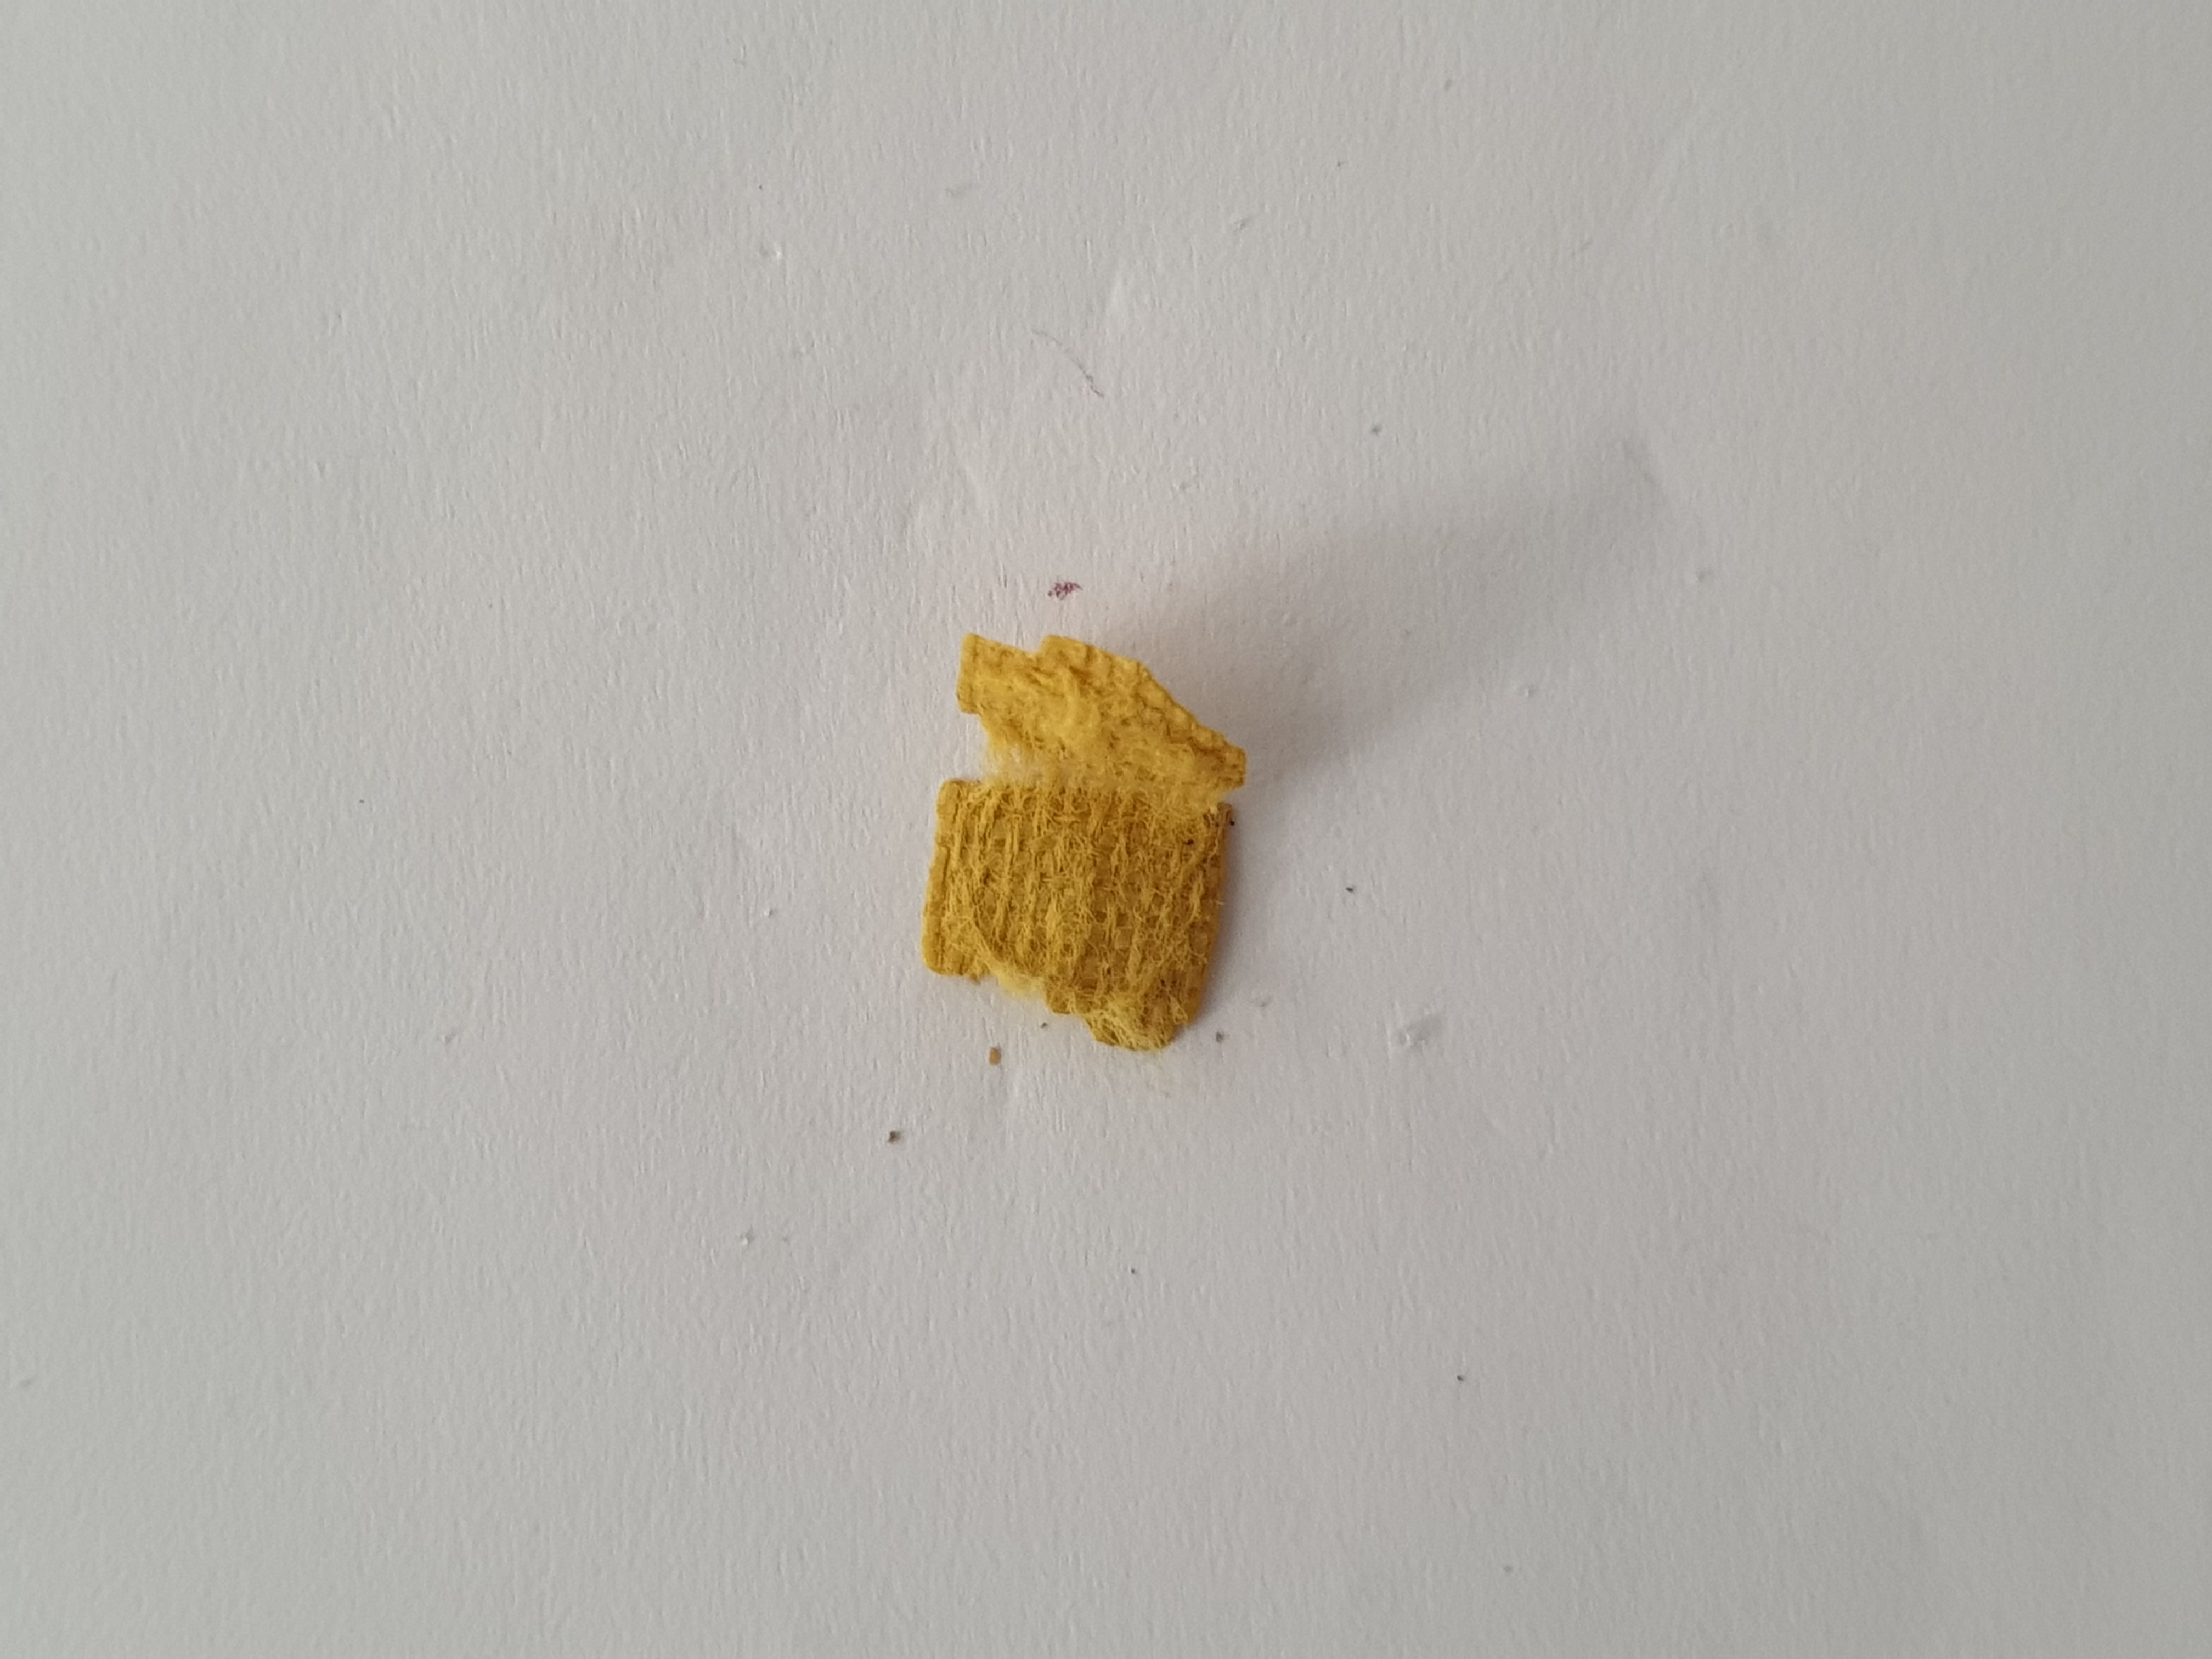plastic: (907, 592, 1251, 1060)
